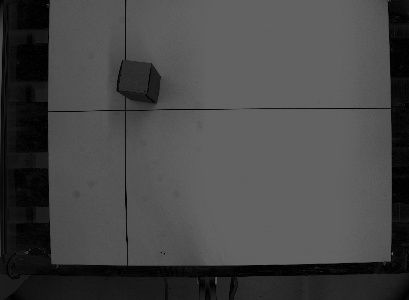b2: (112, 58, 165, 105)
